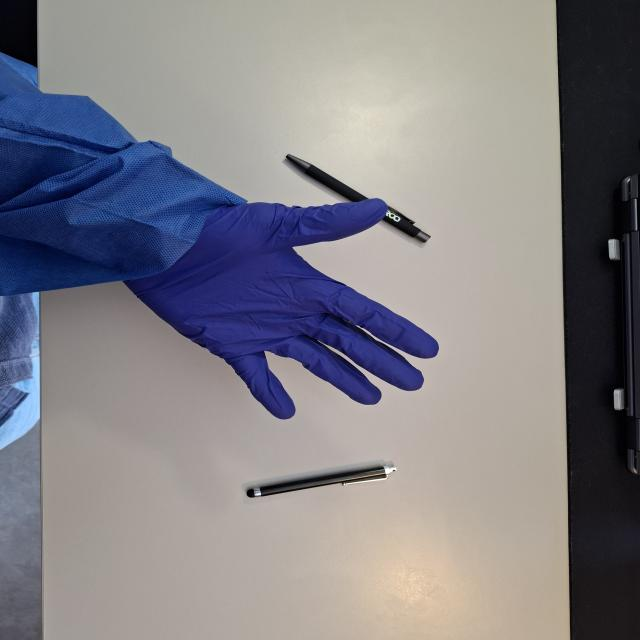glove_on: (117, 194, 445, 418)
